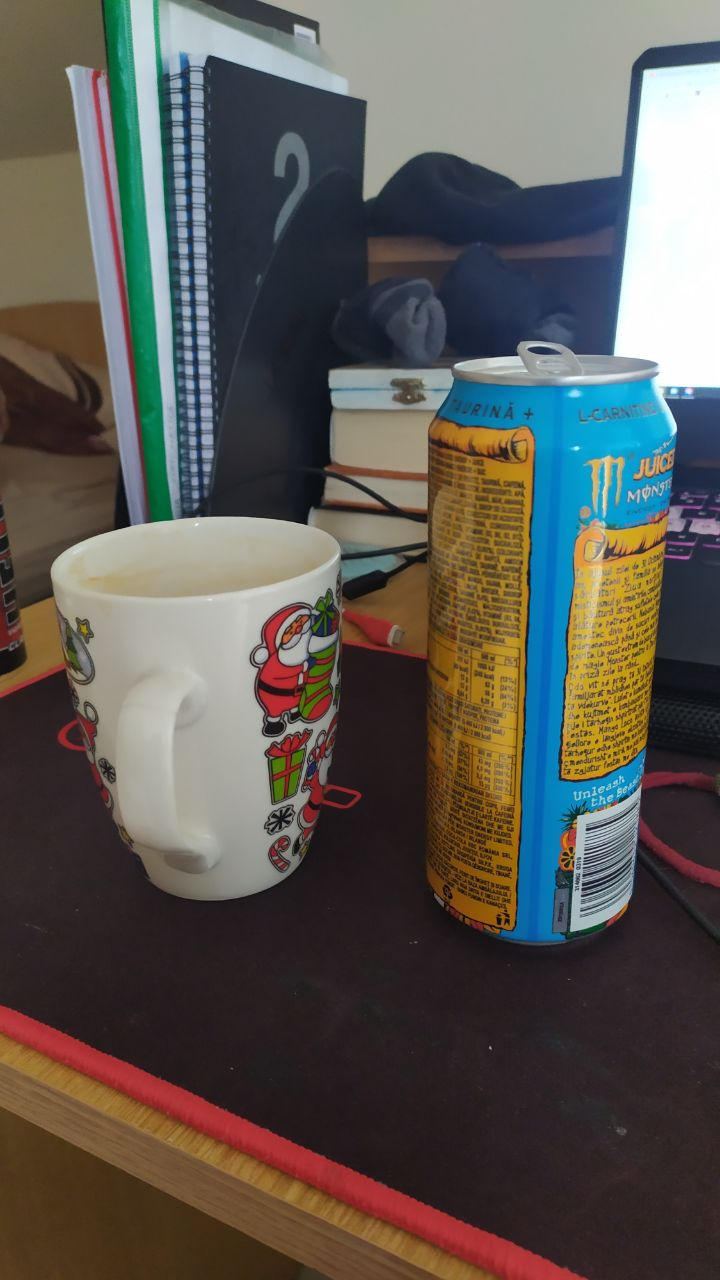Can: (415, 335, 683, 957)
